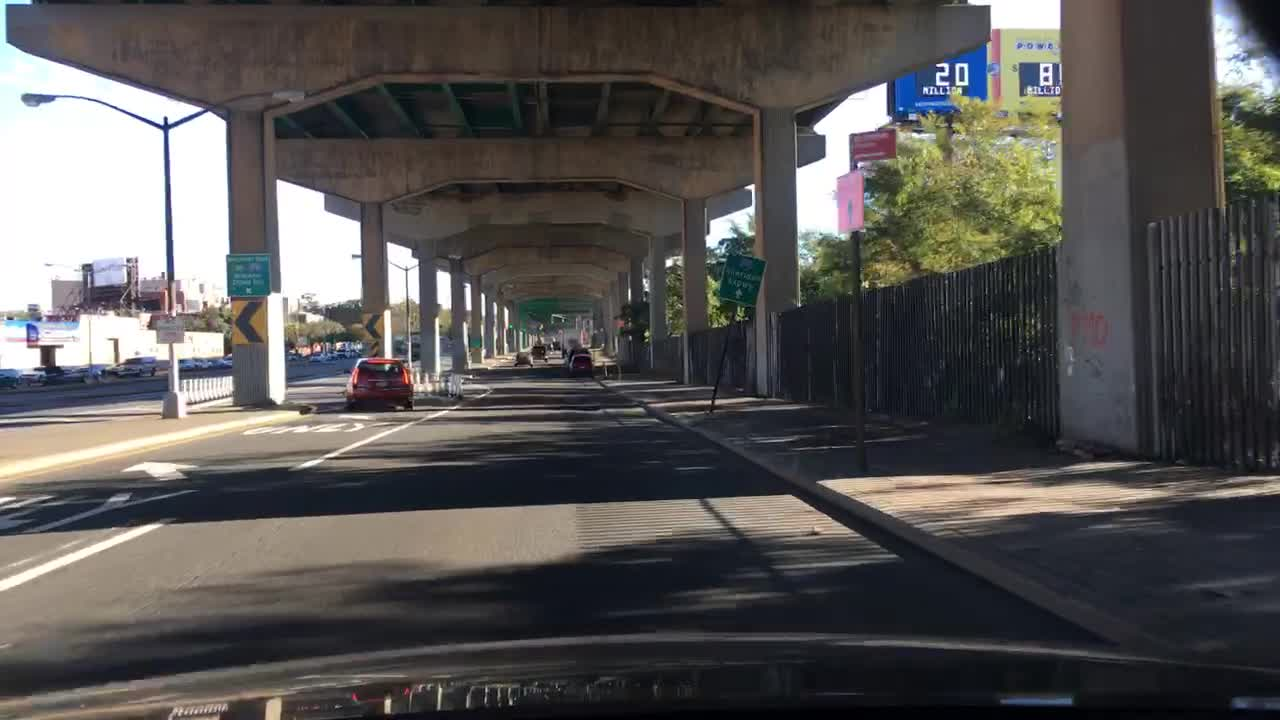car: (343, 357, 414, 409), (116, 355, 158, 378), (50, 367, 95, 388), (20, 364, 59, 385), (69, 363, 101, 385), (563, 347, 591, 368), (570, 355, 594, 379), (99, 361, 120, 379), (0, 367, 18, 388), (513, 352, 534, 369), (530, 346, 549, 364), (561, 341, 582, 355), (389, 334, 405, 352), (408, 340, 420, 361), (398, 337, 413, 353), (191, 355, 205, 371), (306, 351, 322, 364), (178, 358, 193, 371), (202, 356, 215, 370), (550, 339, 564, 352), (542, 341, 554, 355), (345, 347, 362, 356), (438, 337, 447, 353), (223, 355, 233, 368), (446, 338, 455, 352), (290, 352, 304, 361), (214, 356, 223, 370), (335, 349, 347, 359), (323, 350, 335, 359), (284, 349, 293, 361)
traffic light: (504, 320, 514, 335)
traffic sign: (718, 251, 764, 305), (224, 253, 270, 296), (227, 301, 269, 344), (850, 127, 895, 163), (155, 319, 185, 345), (361, 313, 385, 341), (616, 316, 625, 328)
